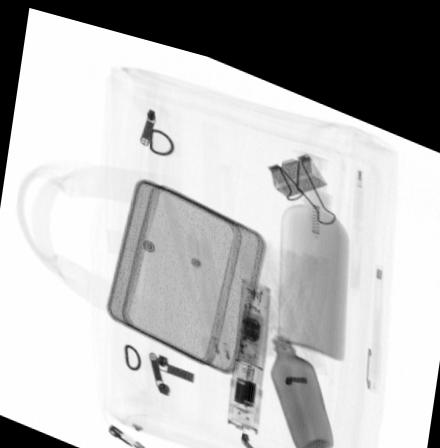Baton: (226, 263, 272, 422)
